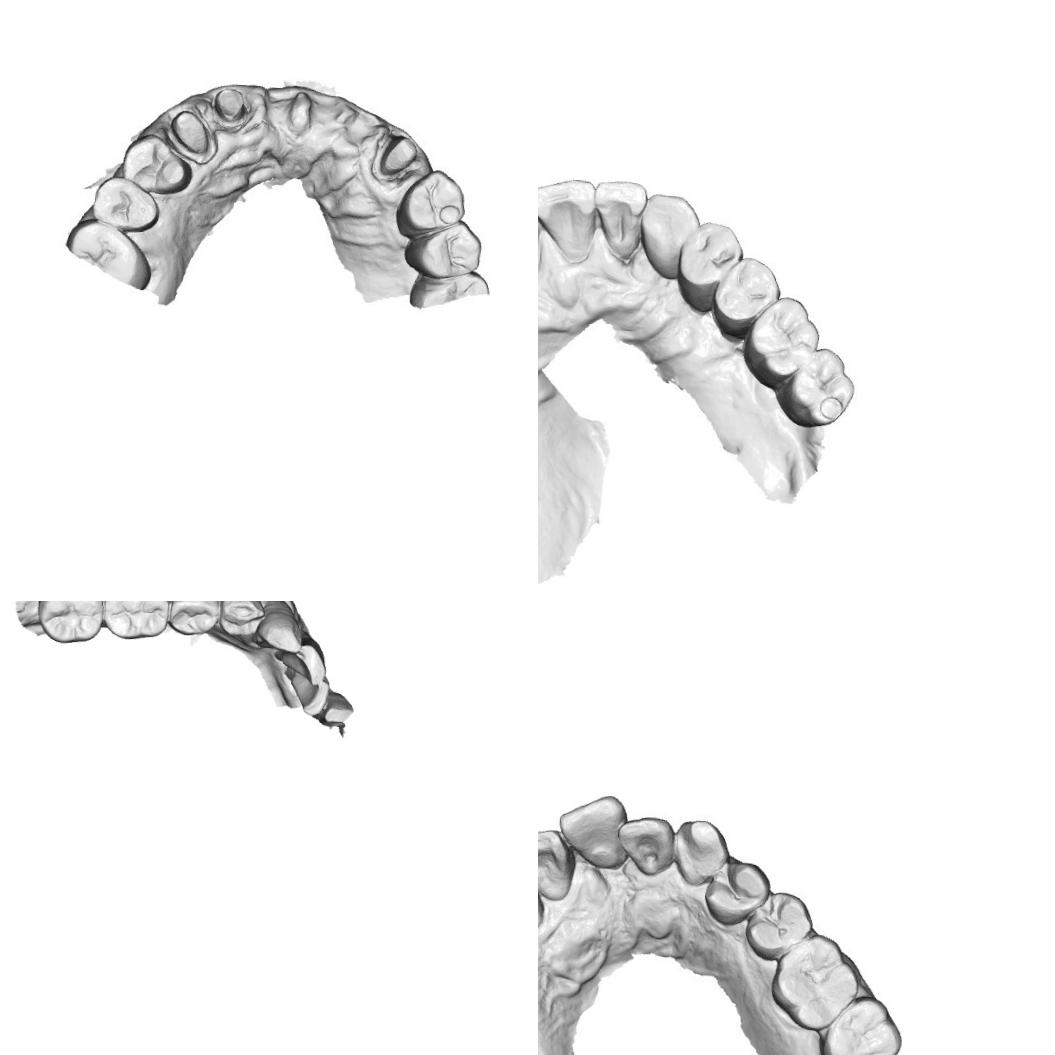canine: (634, 190, 698, 284), (670, 818, 725, 888), (254, 601, 304, 653)
crown: (378, 132, 416, 182), (170, 110, 208, 160), (212, 80, 250, 128)
incisor: (554, 790, 630, 874), (587, 177, 651, 265), (538, 181, 593, 255), (617, 814, 677, 878), (538, 823, 575, 902), (288, 641, 327, 685), (290, 676, 330, 716), (316, 689, 355, 728)
molar: (768, 934, 863, 1034), (736, 291, 816, 387), (774, 341, 858, 431), (814, 991, 903, 1055), (34, 601, 104, 646), (100, 601, 171, 642)
premolar: (709, 255, 786, 345), (673, 220, 745, 314), (742, 886, 814, 962), (389, 168, 466, 239), (402, 218, 484, 281), (698, 856, 769, 927), (89, 174, 155, 234), (125, 134, 190, 192), (212, 601, 267, 639), (166, 601, 221, 638)
